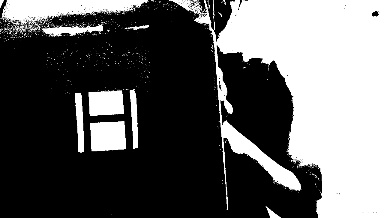H: (74, 89, 138, 151)
